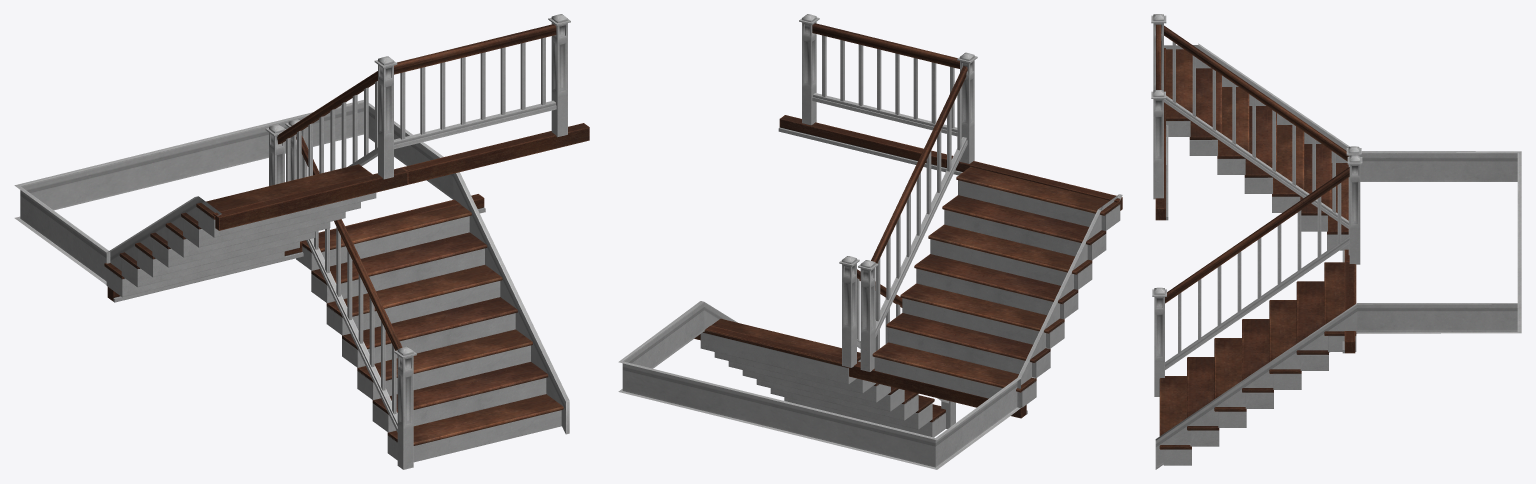
Rendered from Stairs_01.fbx.
3 renders of one model, left to right at view 1: azimuth 30°, elevation 25°; view 2: azimuth 150°, elevation 25°; view 3: azimuth 270°, elevation 25°, orthographic. The views are drawn at different scales.
Parts seen in each view (by area): view 1: Stairs_01_LOD0, Stairs_02_LOD0; view 2: Stairs_01_LOD0, Stairs_02_LOD0; view 3: Stairs_01_LOD0, Stairs_02_LOD0.
Part boxes in pixels (left/top/right/bottom): Stairs_01_LOD0: left=14, top=56, right=589, bottom=469; Stairs_02_LOD0: left=394, top=14, right=570, bottom=149; Stairs_01_LOD0: left=618, top=52, right=1122, bottom=469; Stairs_02_LOD0: left=799, top=14, right=959, bottom=136; Stairs_01_LOD0: left=1151, top=14, right=1521, bottom=469; Stairs_02_LOD0: left=1151, top=24, right=1165, bottom=199.
Size of what is drawn, in the model's own units: 394 by 424 by 379.
